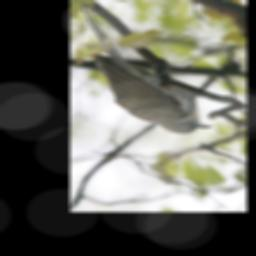Cuckoo: (80, 3, 212, 135)
